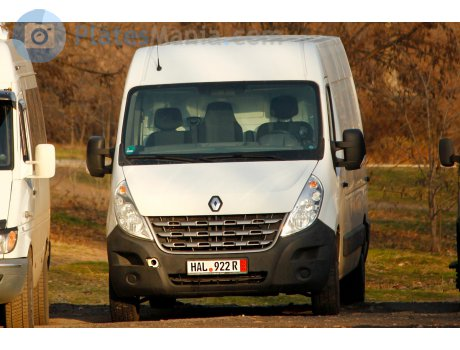License Plates: (189, 258, 246, 271)
